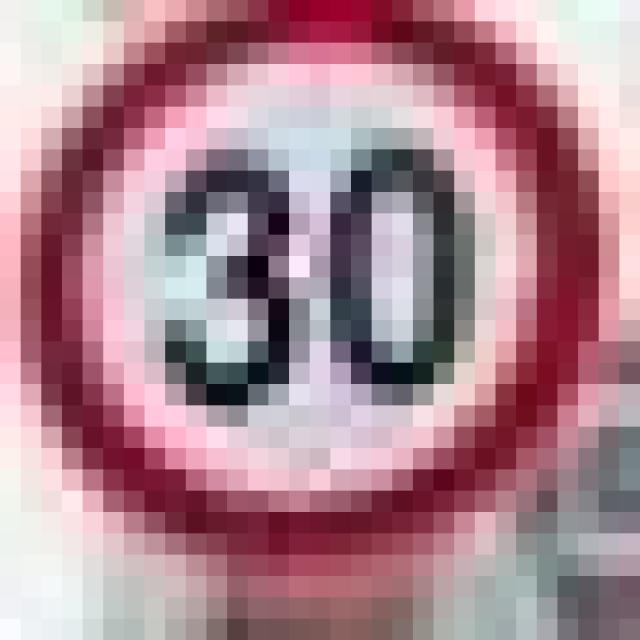speed_limit_30: (0, 0, 599, 555)
